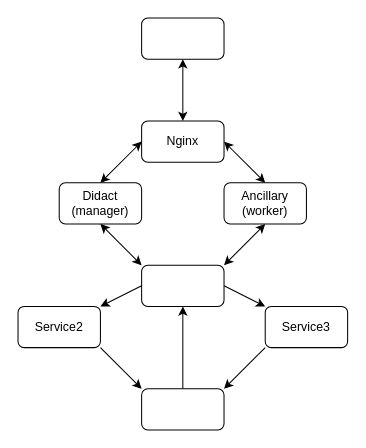
The diagram is 366 pixels wide and 448 high, and some of its shapes have lost their labels. Each missing label, with the centre of its shape:
"Service1" goes at [182,285].
"Service4" goes at [182,409].
"User" goes at [182,38].
